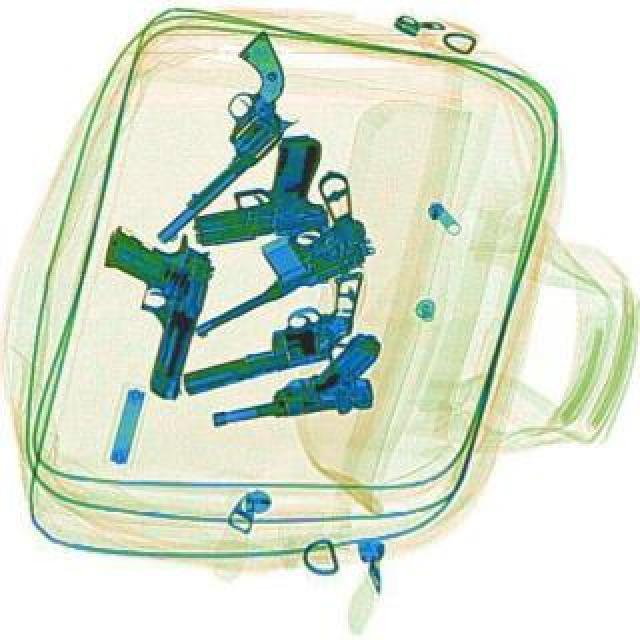gun: (96, 28, 332, 252), (154, 170, 392, 354), (164, 274, 380, 398), (76, 222, 220, 406), (198, 336, 386, 438), (180, 136, 334, 252)
